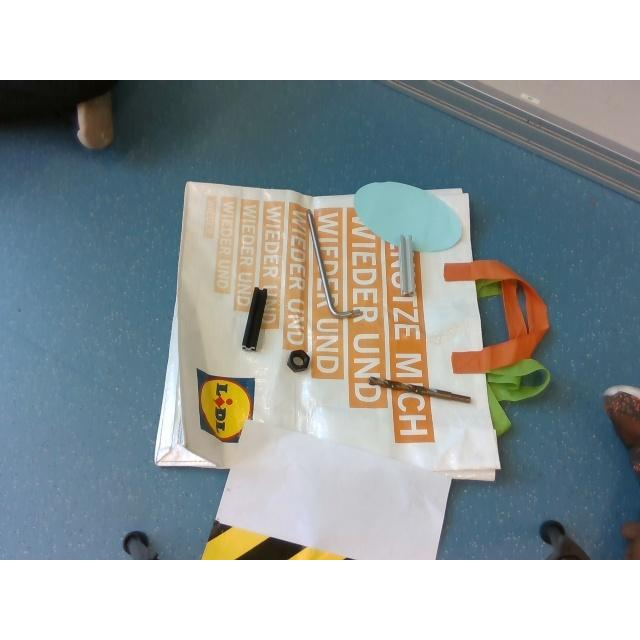AllenKey: (306, 208, 362, 318)
Drill: (368, 376, 470, 402)
F20_20_B: (242, 286, 266, 350)
F20_20_G: (398, 234, 414, 296)
M20: (287, 349, 309, 371)
